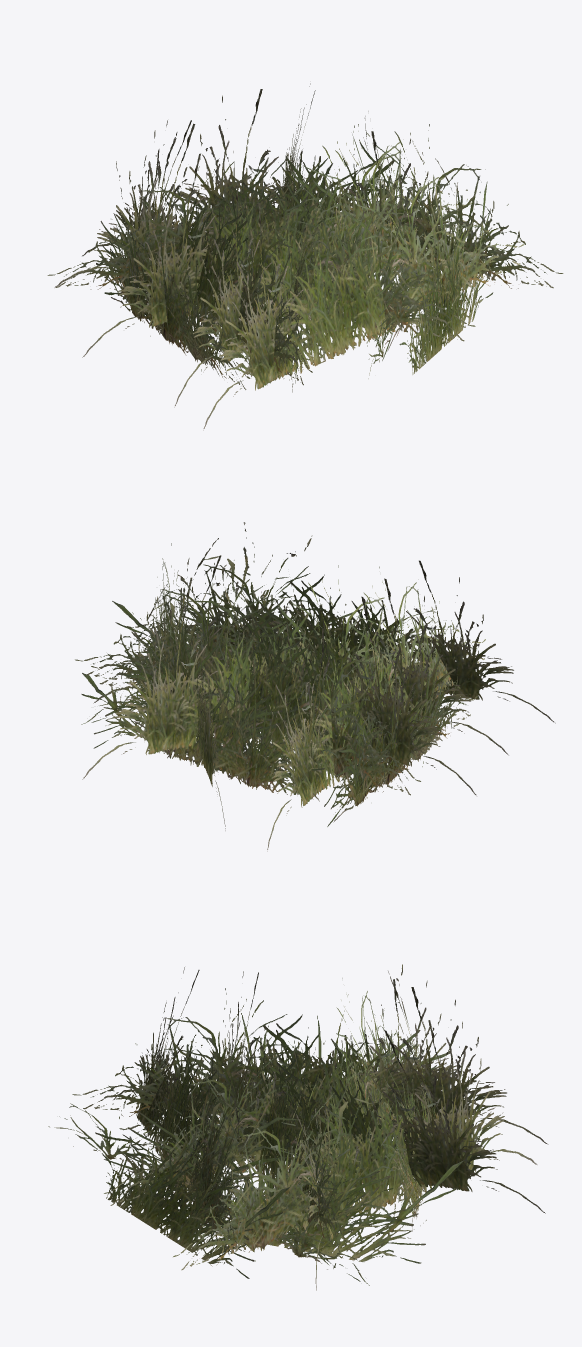
File: grass_patch1.fbx
The picture shows the model from 3 angles, top to bottom: view 1: azimuth 30°, elevation 25°; view 2: azimuth 150°, elevation 25°; view 3: azimuth 270°, elevation 25°; orthographic projection. The views are drawn at different scales.
Parts seen in each view (by area): view 1: Plane; view 2: Plane; view 3: Plane.
Boxes of the visible parts, bbox=[...] form: Plane: bbox=[47, 83, 563, 430]; Plane: bbox=[75, 522, 555, 851]; Plane: bbox=[48, 964, 548, 1290].
Size of the model in its own units: 191 by 86.1 by 189.
Materials: 1 (1 with a texture image).
